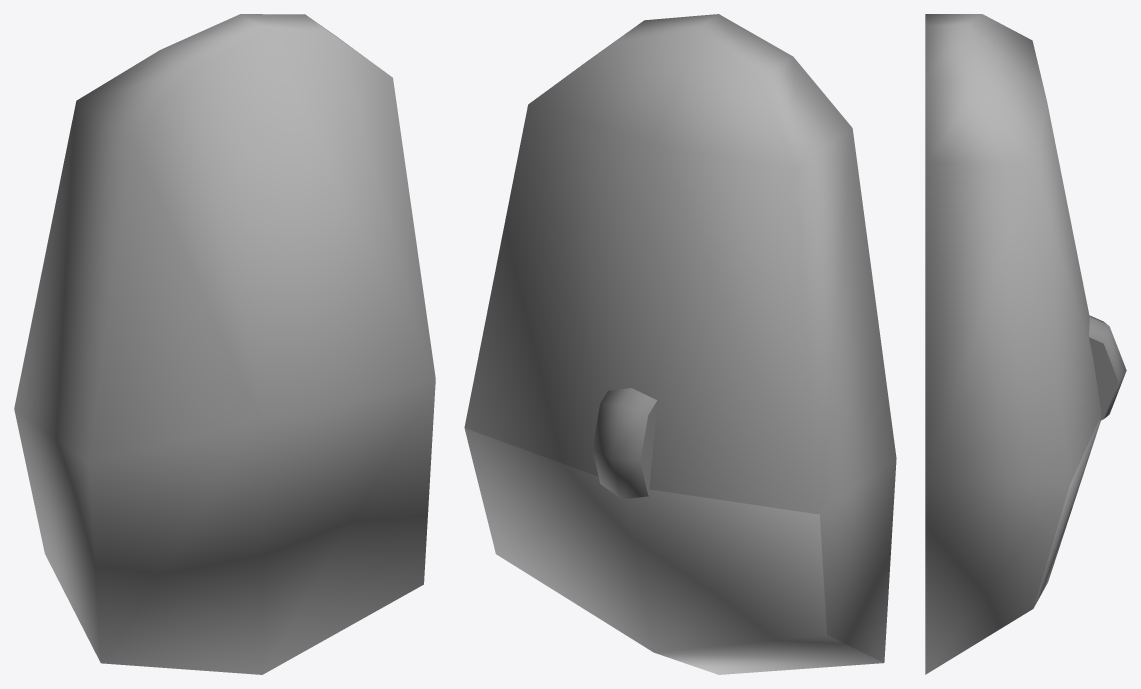
File: PC_Mouse.glb
The picture shows the model from 3 angles, left to right: view 1: azimuth 30°, elevation 25°; view 2: azimuth 150°, elevation 25°; view 3: azimuth 270°, elevation 25°; orthographic projection. The views are drawn at different scales.
Parts seen in each view (by area): view 1: PC Mouse; view 2: PC Mouse; view 3: PC Mouse.
Boxes of the visible parts, left/top/right/bottom form: PC Mouse: left=14, top=14, right=435, bottom=674; PC Mouse: left=464, top=14, right=896, bottom=674; PC Mouse: left=925, top=14, right=1126, bottom=674.
Bounding box in the file's own units: 0.0826 × 0.1469 × 0.0431.
1 material, 1 textured.
